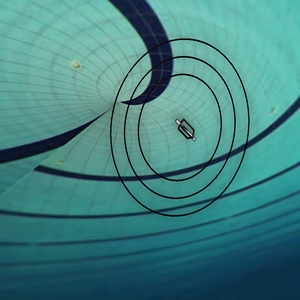circle: (106, 34, 255, 227)
submarine: (166, 109, 204, 151)
